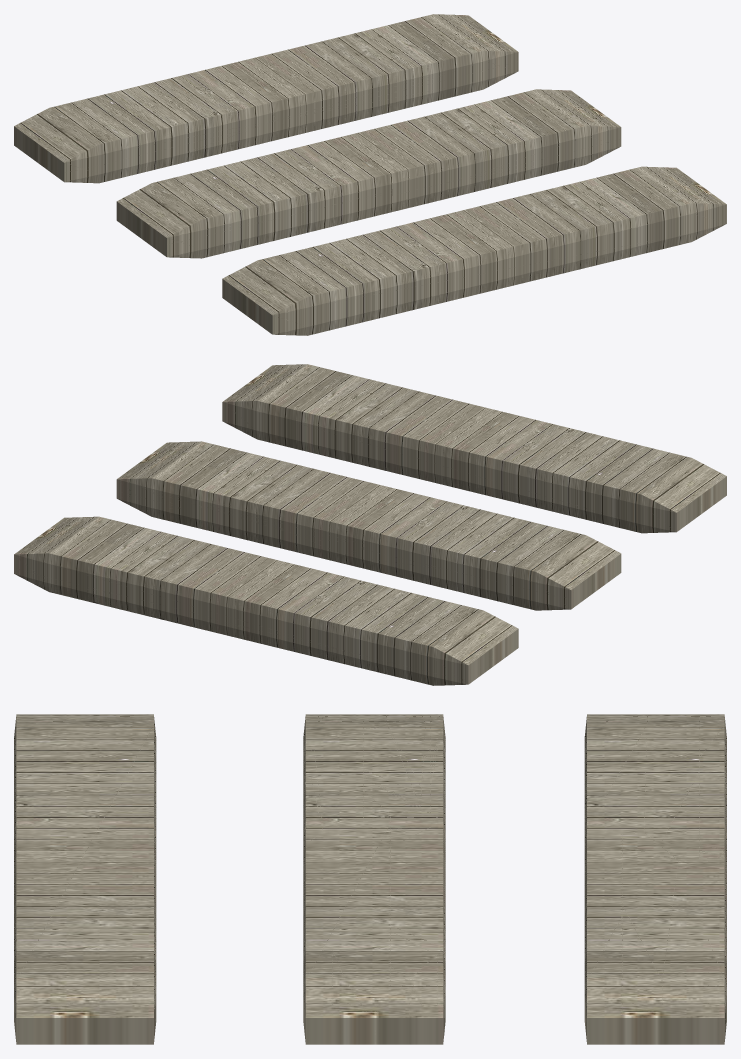
Rendered from FakeBridges.fbx.
3 renders of one model, top to bottom at view 1: azimuth 30°, elevation 25°; view 2: azimuth 150°, elevation 25°; view 3: azimuth 270°, elevation 25°, orthographic. The views are drawn at different scales.
Parts seen in each view (by area): view 1: pCube107, pCube108, pCube109, pCube109_cell; view 2: pCube108, pCube107, pCube109, pCube109_cell; view 3: pCube108, pCube107, pCube109, pCube109_cell.
Part boxes in pixels (<box>): pCube107: <box>116,89,621,258</box>; pCube108: <box>222,166,726,335</box>; pCube109: <box>14,18,518,183</box>; pCube109_cell: <box>249,14,473,63</box>; pCube108: <box>222,364,726,533</box>; pCube107: <box>116,441,621,610</box>; pCube109: <box>14,516,518,685</box>; pCube109_cell: <box>14,549,239,625</box>; pCube108: <box>14,714,156,1044</box>; pCube107: <box>303,714,445,1044</box>; pCube109: <box>584,714,726,1044</box>; pCube109_cell: <box>663,857,726,1044</box>.
Bounding box in the file's own units: 982 × 79.92 × 974.
Materials: 1 (1 with a texture image).
